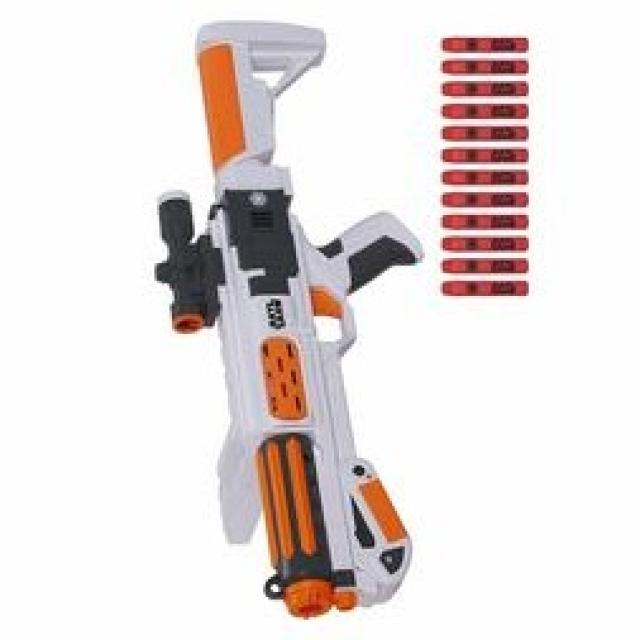Nerf gun: (142, 14, 435, 623)
